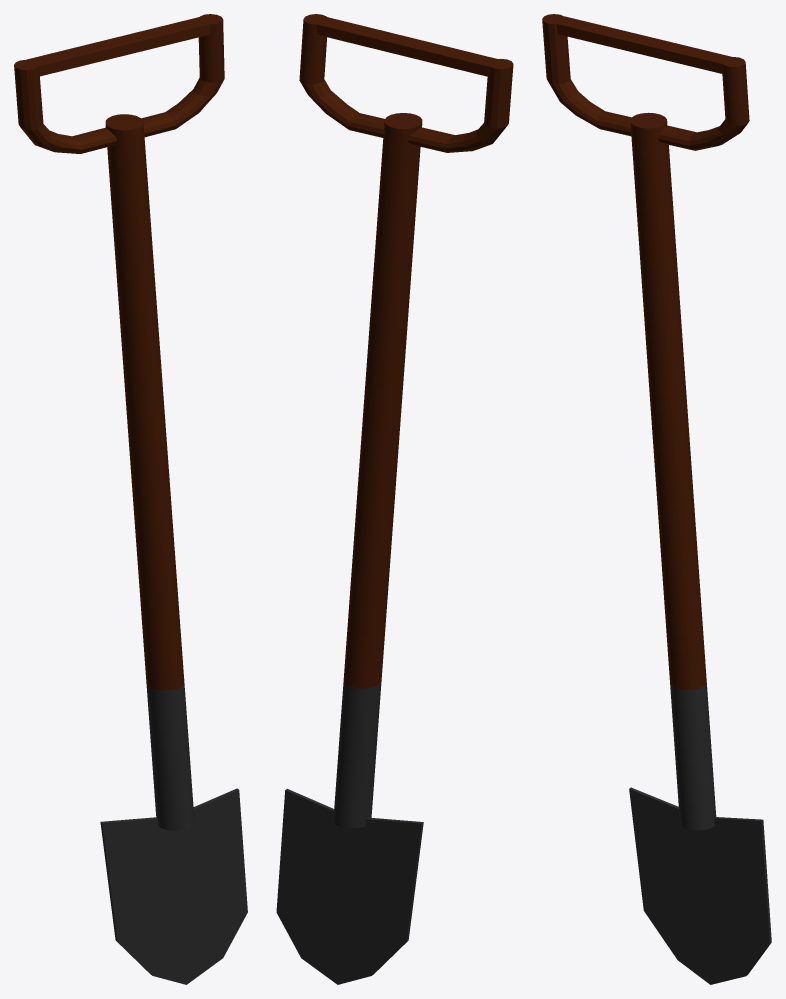
File: Shovel.FBX
3 views of the same model, side by side, from view 1: azimuth 30°, elevation 25°; view 2: azimuth 150°, elevation 25°; view 3: azimuth 330°, elevation 25° (orthographic). The views are drawn at different scales.
Parts seen in each view (by area): view 1: Object003; view 2: Object003; view 3: Object003.
Boxes of the visible parts, x1,y1,x2,y2 form: Object003: (14,14,247,984); Object003: (276,14,513,984); Object003: (542,14,771,984).
Size of the model in its own units: 0.2455 by 0.9665 by 0.0346.
